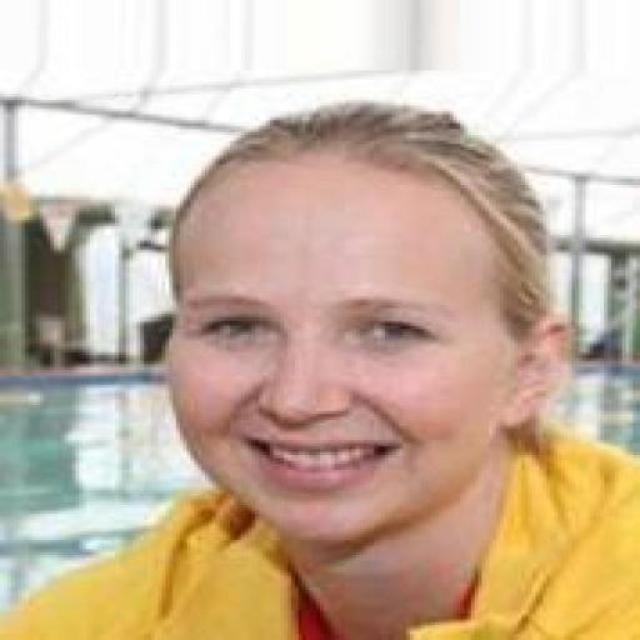bareface: (147, 161, 482, 541)
